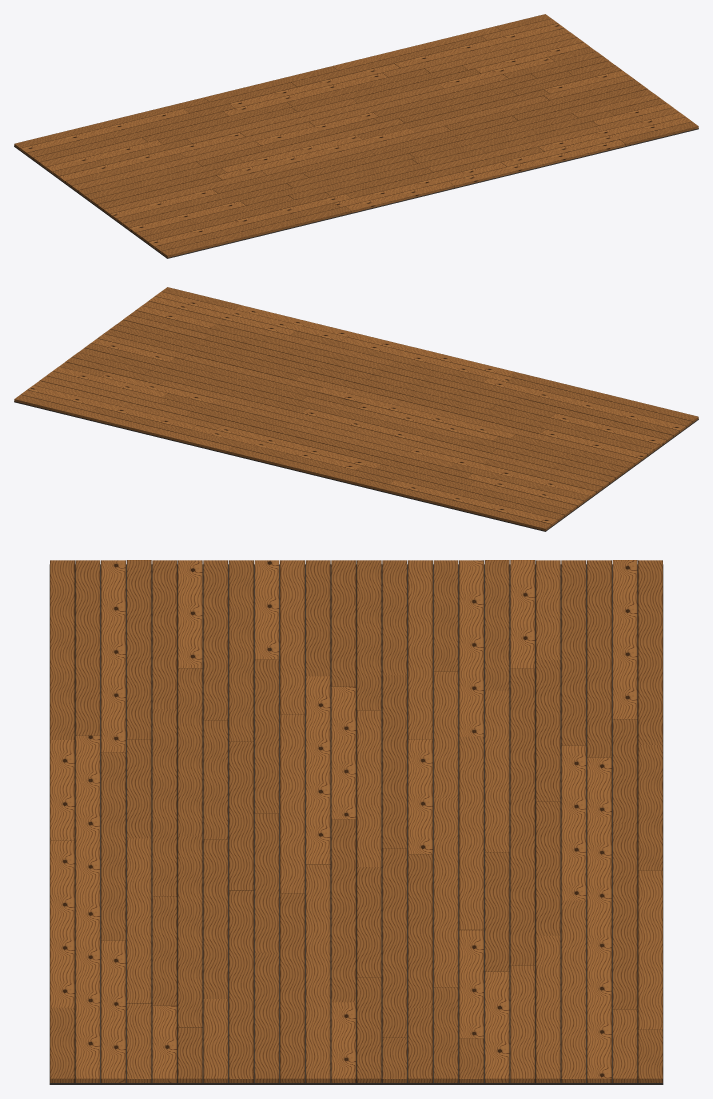
The model's file is Floor_Planks.glb.
The picture shows the model from 3 angles, top to bottom: view 1: azimuth 30°, elevation 25°; view 2: azimuth 150°, elevation 25°; view 3: azimuth 270°, elevation 25°; orthographic projection. The views are drawn at different scales.
Parts seen in each view (by area): view 1: Floor_Planks; view 2: Floor_Planks; view 3: Floor_Planks.
Boxes of the visible parts, bbox=[...] form: Floor_Planks: bbox=[14, 14, 698, 258]; Floor_Planks: bbox=[14, 287, 698, 531]; Floor_Planks: bbox=[49, 560, 663, 1084].
Size of the model in its own units: 12 by 0.067 by 6.
2 materials, 1 textured.
